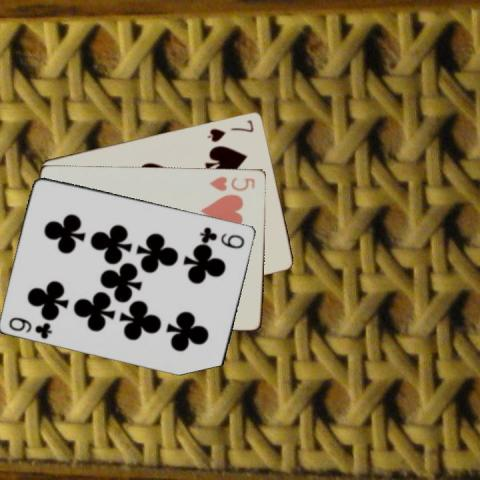5h: (206, 173, 256, 192)
7s: (205, 116, 255, 143)
9c: (197, 223, 247, 249), (6, 314, 54, 340)
